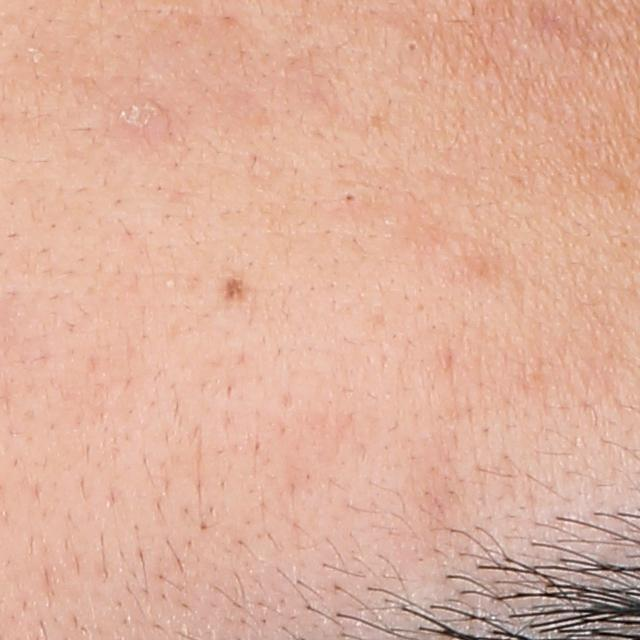comedo: (339, 186, 364, 209), (400, 36, 422, 56)
nevus: (210, 268, 271, 310)
